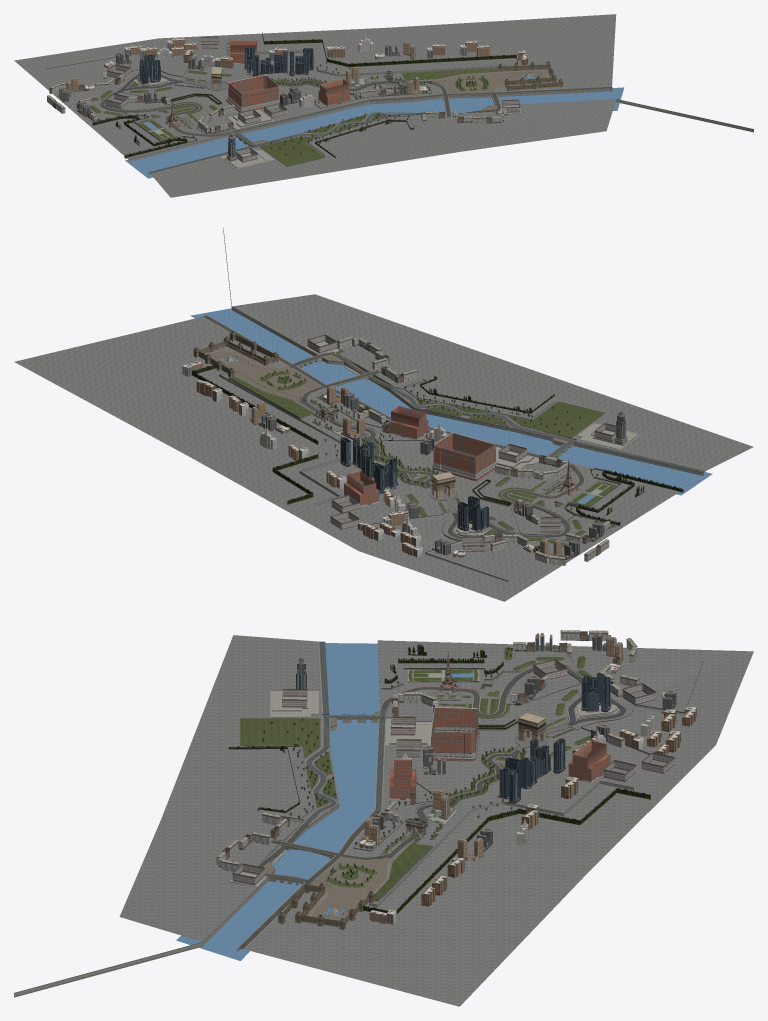
Rendered from paris.glb.
3 renders of one model, top to bottom at view 1: azimuth 30°, elevation 25°; view 2: azimuth 150°, elevation 25°; view 3: azimuth 270°, elevation 25°, orthographic. The views are drawn at different scales.
Parts seen in each view (by area): view 1: dibiao_28_D_dibiao_9_0, luofugong_2_2_D_shui_1_0, guangchang_1_3_D_cao_3_0, luofugong_2_3_D_qiang_3_0, peilou_10_2_D_peilou_13D_0, shaidao_54_10_D_zhibei_12_0, peilou_6_2_D_peilou_6_0, peilou_27_D_peilou_22_0, shaidao_54_2_D_lujian_4_0, peilou_30_D_peilou_23_0, shaidao_54_1_D_dibiao_7_0, peilou_21_1_D_boli_1_0 (+15 smaller); view 2: dibiao_28_D_dibiao_9_0, luofugong_2_2_D_shui_1_0, guangchang_1_3_D_cao_3_0, peilou_10_2_D_peilou_13D_0, luofugong_2_3_D_qiang_3_0, peilou_27_D_peilou_22_0, peilou_6_2_D_peilou_6_0, shaidao_54_10_D_zhibei_12_0, peilou_30_D_peilou_23_0, shaidao_54_1_D_dibiao_7_0, shaidao_55_7_D_dibiao_8_0, guangchang_1_5_D_qiang_2_0 (+13 smaller); view 3: dibiao_28_D_dibiao_9_0, luofugong_2_2_D_shui_1_0, guangchang_1_3_D_cao_3_0, peilou_10_2_D_peilou_13D_0, peilou_30_D_peilou_23_0, luofugong_2_3_D_qiang_3_0, peilou_27_D_peilou_22_0, peilou_6_2_D_peilou_6_0, shaidao_54_1_D_dibiao_7_0, shaidao_55_7_D_dibiao_8_0, shaidao_54_2_D_lujian_4_0, shaidao_54_10_D_zhibei_12_0 (+16 smaller).
Part boxes in pixels (x1,y1,x2,y2): dibiao_28_D_dibiao_9_0: [14, 14, 616, 197]; luofugong_2_2_D_shui_1_0: [125, 74, 624, 178]; guangchang_1_3_D_cao_3_0: [90, 68, 501, 166]; luofugong_2_3_D_qiang_3_0: [125, 50, 753, 174]; peilou_10_2_D_peilou_13D_0: [226, 40, 350, 112]; shaidao_54_10_D_zhibei_12_0: [92, 32, 517, 157]; peilou_6_2_D_peilou_6_0: [124, 37, 527, 68]; peilou_27_D_peilou_22_0: [47, 54, 507, 133]; shaidao_54_2_D_lujian_4_0: [99, 70, 612, 173]; peilou_30_D_peilou_23_0: [106, 36, 520, 162]; shaidao_54_1_D_dibiao_7_0: [100, 80, 612, 136]; peilou_21_1_D_boli_1_0: [140, 47, 313, 83]; dibiao_28_D_dibiao_9_0: [14, 294, 753, 601]; luofugong_2_2_D_shui_1_0: [190, 308, 712, 503]; guangchang_1_3_D_cao_3_0: [230, 347, 616, 546]; peilou_10_2_D_peilou_13D_0: [344, 406, 495, 505]; luofugong_2_3_D_qiang_3_0: [219, 228, 703, 534]; peilou_27_D_peilou_22_0: [337, 336, 610, 565]; peilou_6_2_D_peilou_6_0: [182, 361, 422, 557]; shaidao_54_10_D_zhibei_12_0: [192, 364, 682, 524]; peilou_30_D_peilou_23_0: [307, 334, 615, 552]; shaidao_54_1_D_dibiao_7_0: [203, 315, 584, 537]; shaidao_55_7_D_dibiao_8_0: [210, 351, 566, 536]; guangchang_1_5_D_qiang_2_0: [228, 347, 616, 546]; dibiao_28_D_dibiao_9_0: [119, 635, 753, 1006]; luofugong_2_2_D_shui_1_0: [176, 643, 473, 960]; guangchang_1_3_D_cao_3_0: [240, 647, 592, 899]; peilou_10_2_D_peilou_13D_0: [389, 708, 610, 798]; peilou_30_D_peilou_23_0: [232, 659, 674, 885]; luofugong_2_3_D_qiang_3_0: [14, 641, 633, 997]; peilou_27_D_peilou_22_0: [216, 630, 639, 871]; peilou_6_2_D_peilou_6_0: [369, 706, 696, 924]; shaidao_54_1_D_dibiao_7_0: [238, 667, 582, 948]; shaidao_55_7_D_dibiao_8_0: [264, 708, 619, 920]; shaidao_54_2_D_lujian_4_0: [237, 641, 627, 949]; shaidao_54_10_D_zhibei_12_0: [228, 658, 650, 914].
Bounding box in the file's own units: 34.44 × 2 × 29.12.
Materials: 48 (48 with a texture image).
